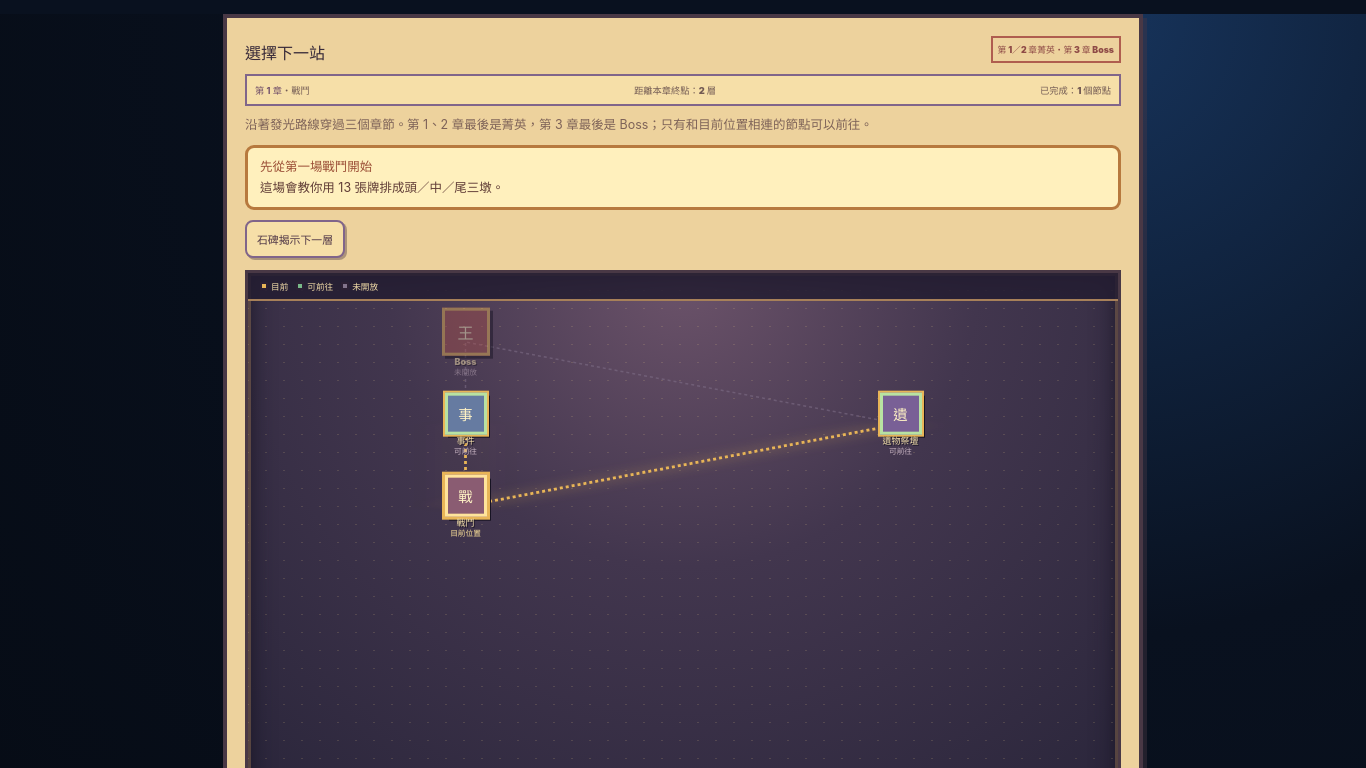
it: RunRouteView › lets the cartographer reveal the next layer once during a run
Click the button "石碑揭示下一層".
click(295, 239)  # box [245, 220, 345, 258]
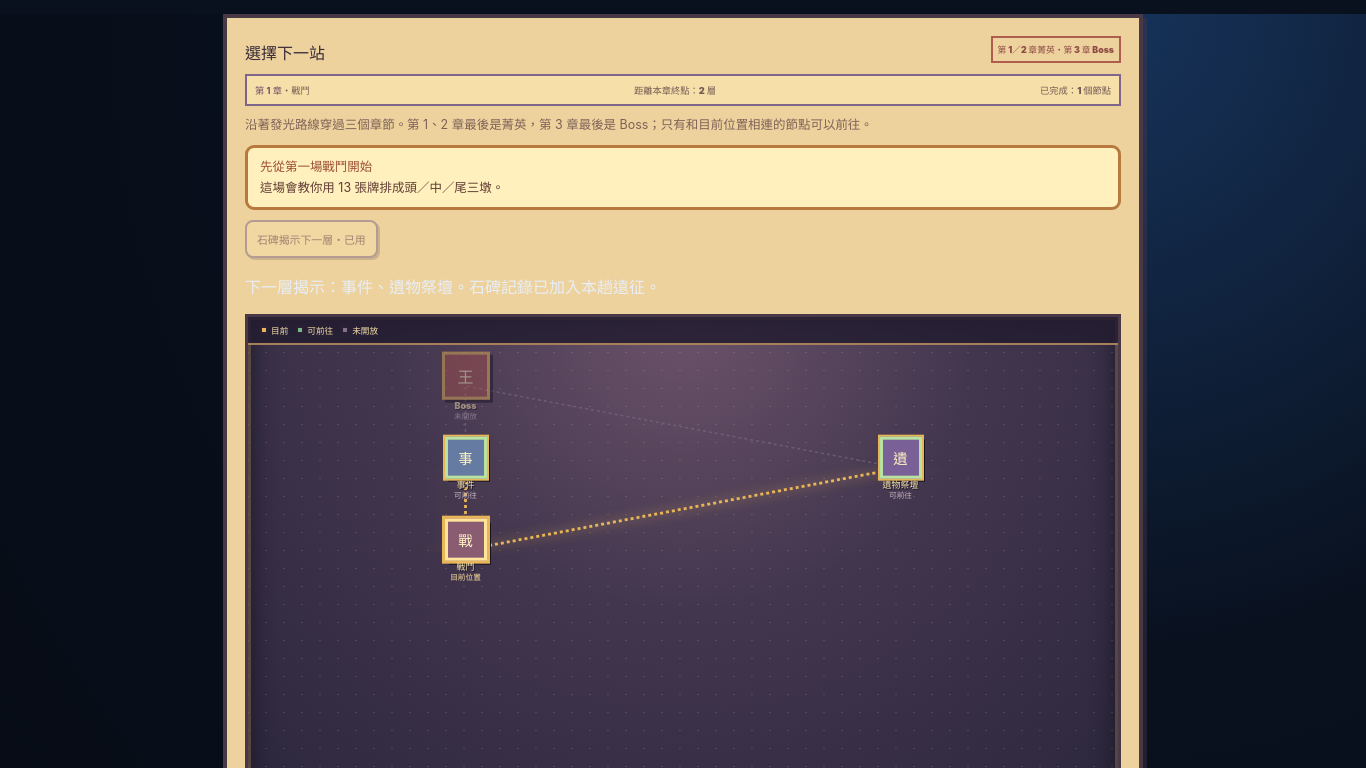
expect the text "下一層揭示：事件、遺物祭壇。石碑記錄已加入本趟遠征。" is shown: met, box [245, 277, 661, 297]
expect the button "石碑揭示下一層・已用" is disabled: met, box [245, 220, 378, 258]
